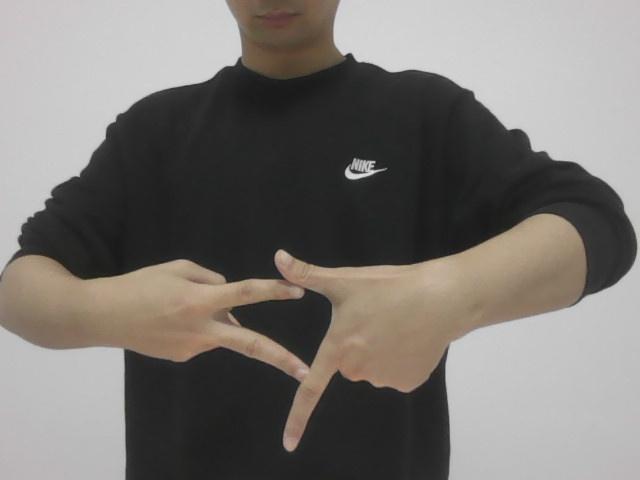introduce: (125, 242, 452, 459)
